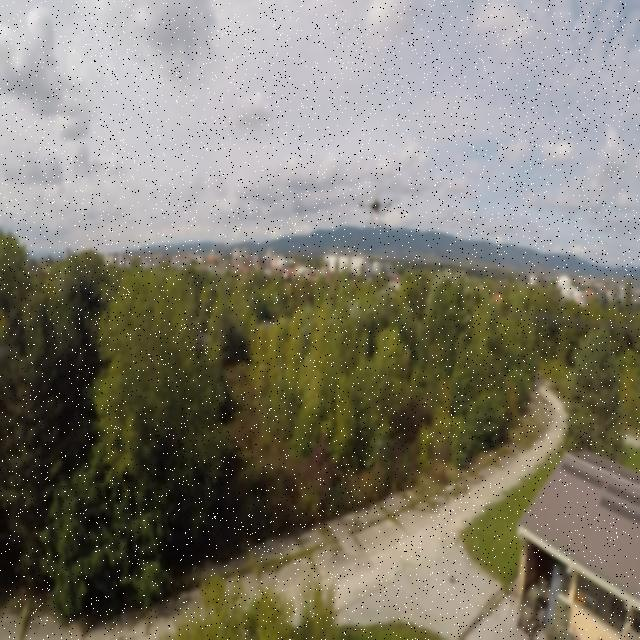UAV: (353, 194, 395, 229)
